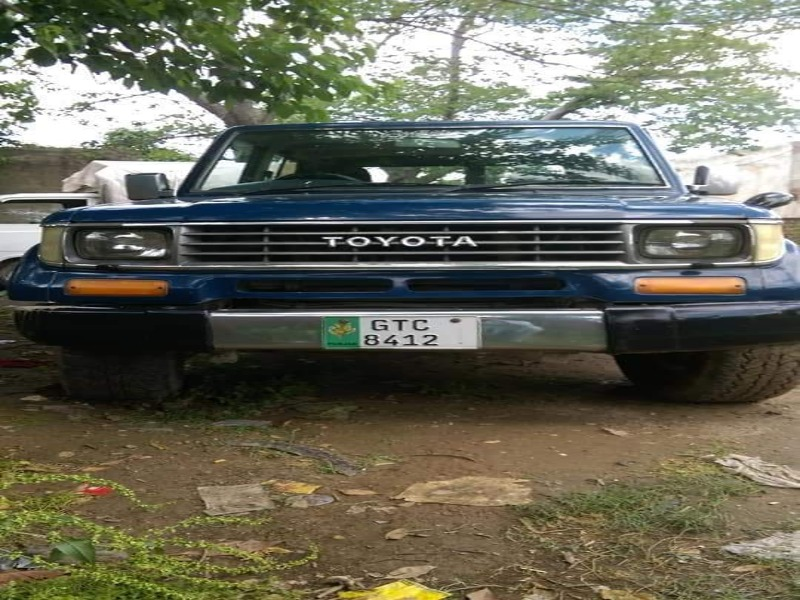License Plate: (321, 312, 483, 352)
